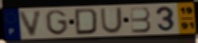3: (154, 5, 178, 32)
B: (128, 6, 153, 34)
D: (74, 8, 100, 36)
G: (45, 9, 70, 36)
U: (99, 7, 124, 35)
V: (18, 9, 45, 37)
